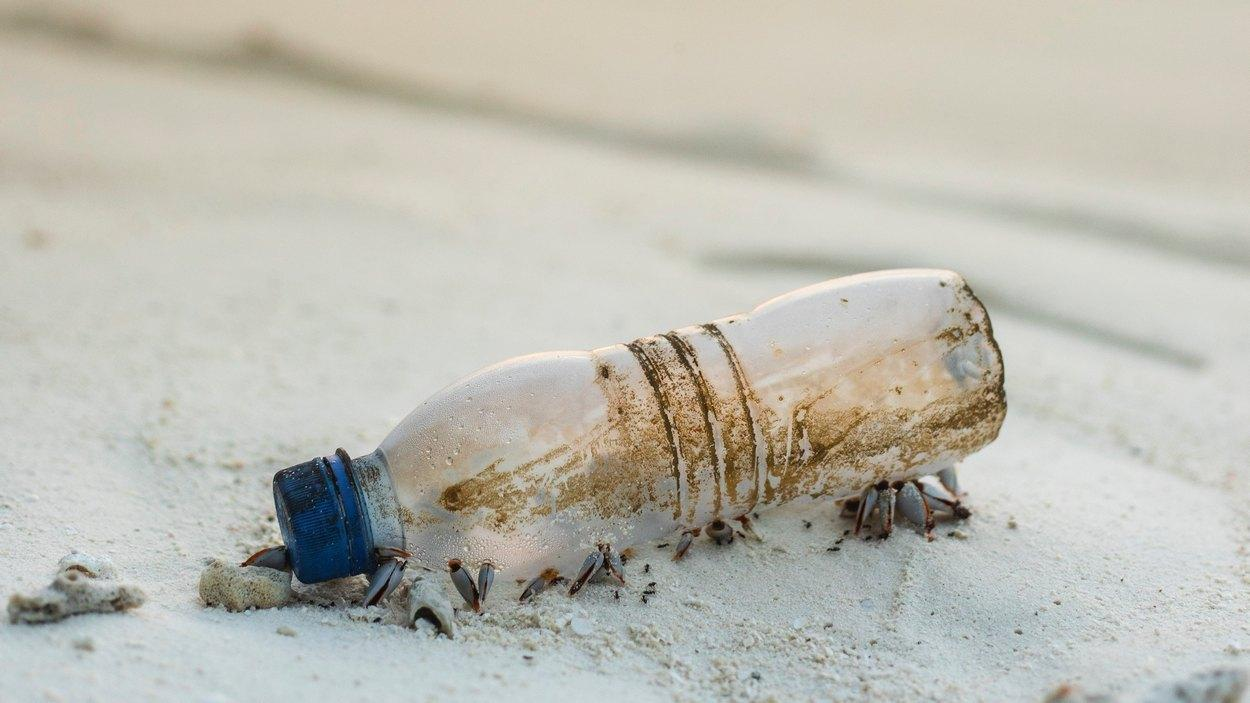bottle: (257, 248, 1024, 634)
